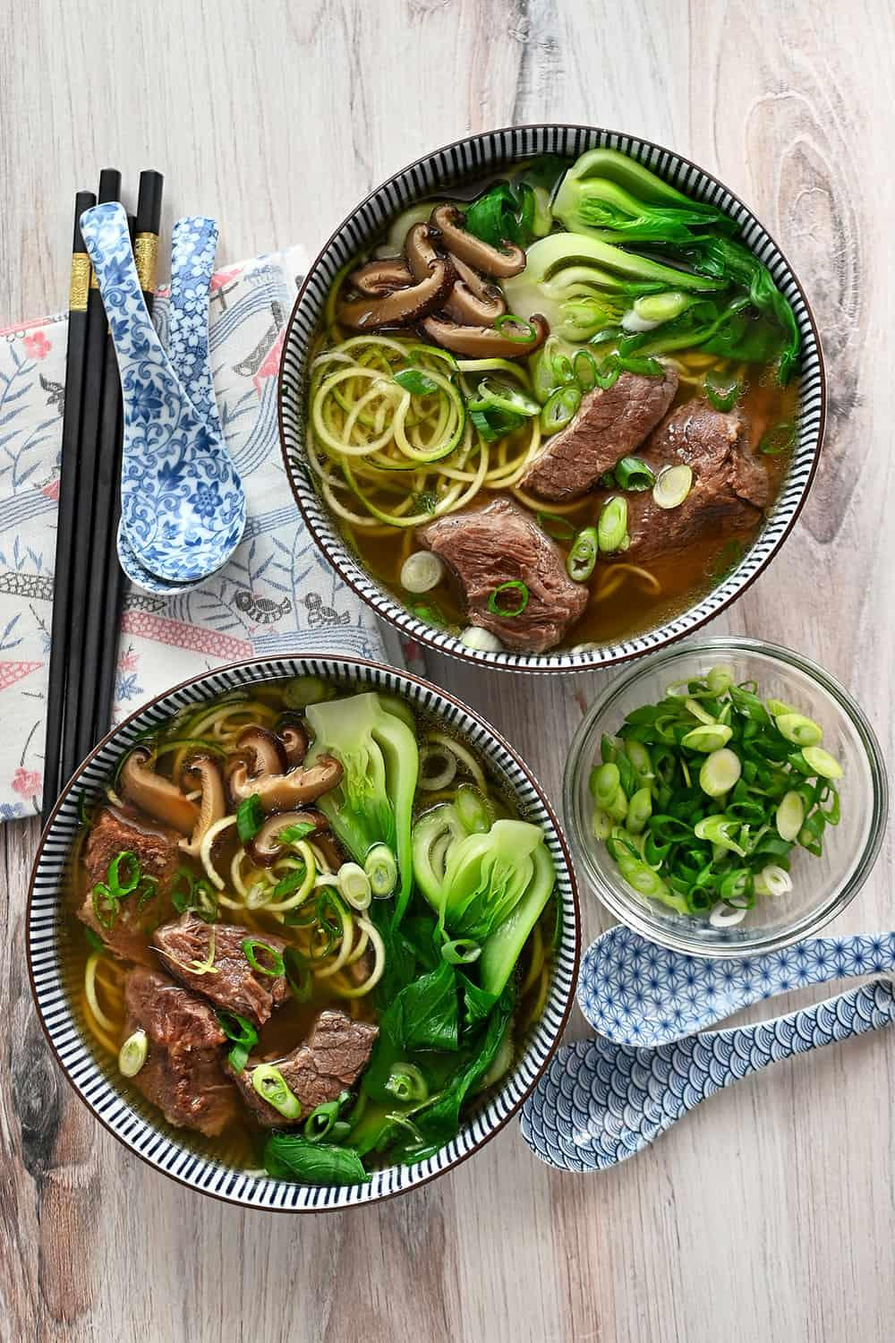Braised Crucian Carp: (21, 669, 574, 1208), (275, 128, 822, 653)
